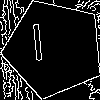I: (29, 24, 47, 71)
